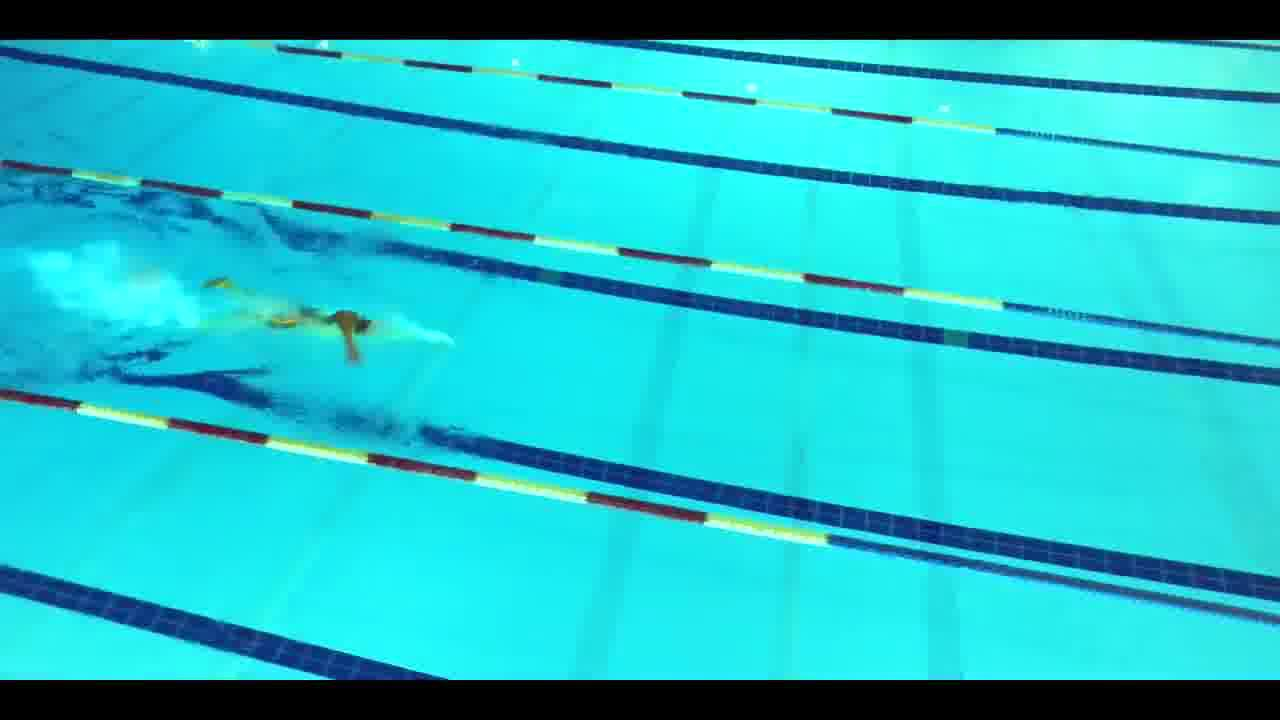swimmer: (304, 288, 400, 351)
